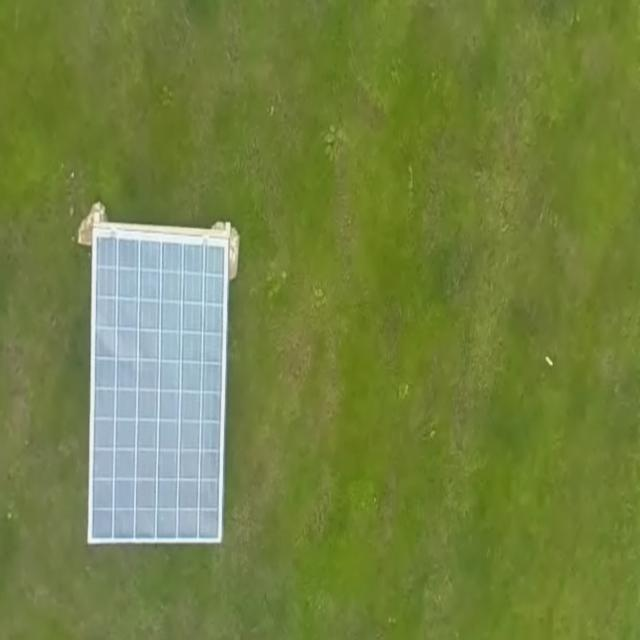no faulty: (94, 238, 222, 545)
